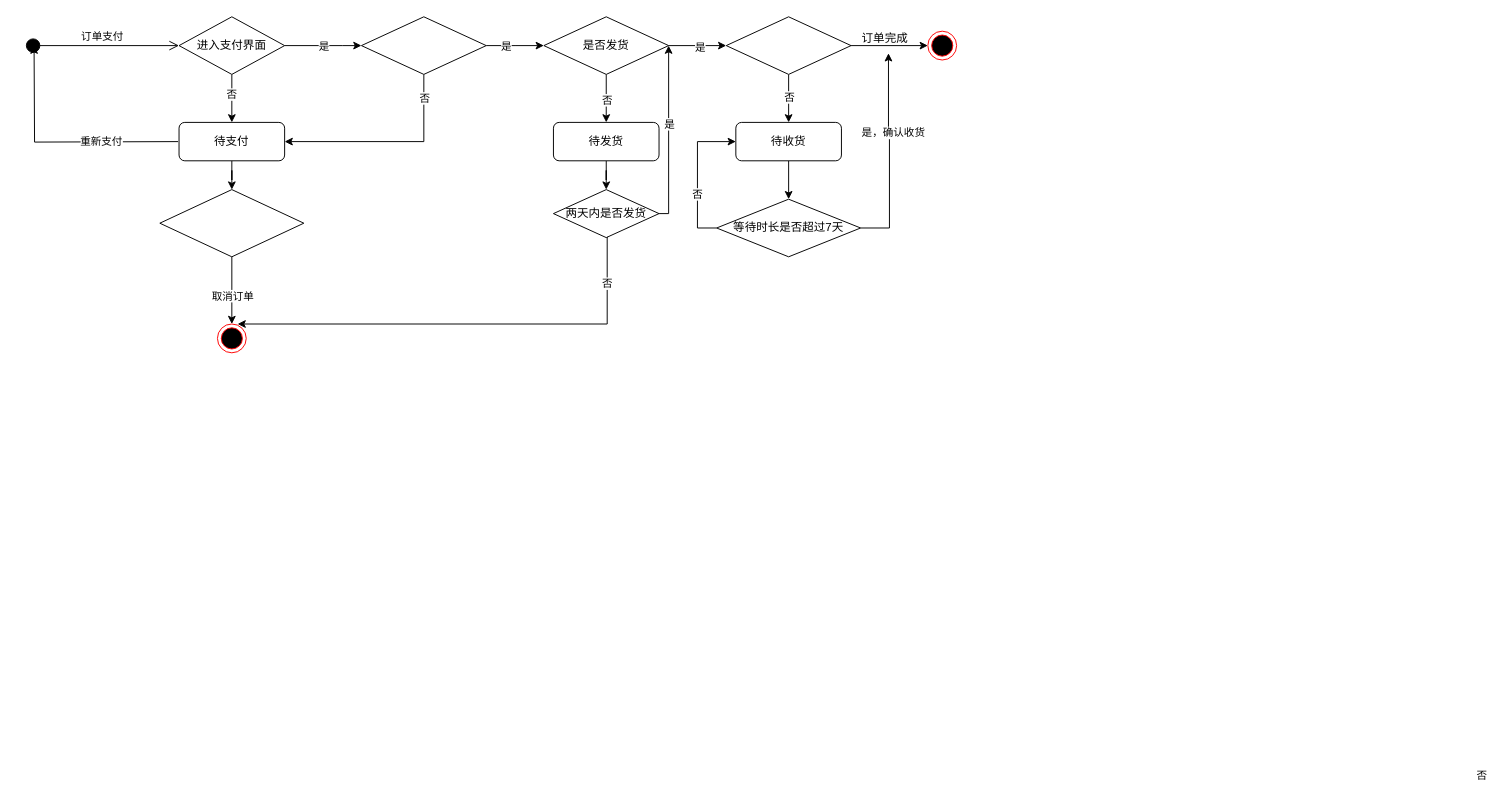
Some shapes in this 1503 by 799 pixel diagram are drawn without their labels. The centre of each missing label's shape, as x and y in pixels:
"是否支付" goes at point (423, 45).
"是否收货" goes at point (788, 45).
"等待时长超出10分钟" goes at point (231, 223).
